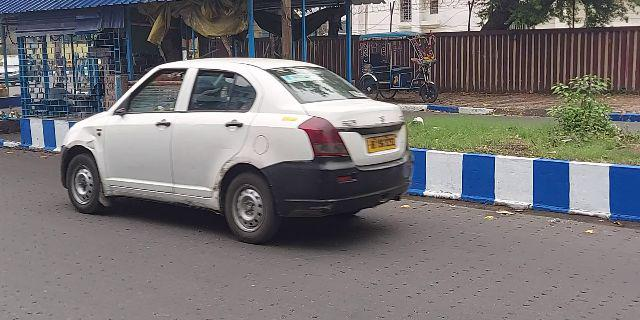Car: (51, 56, 421, 237)
